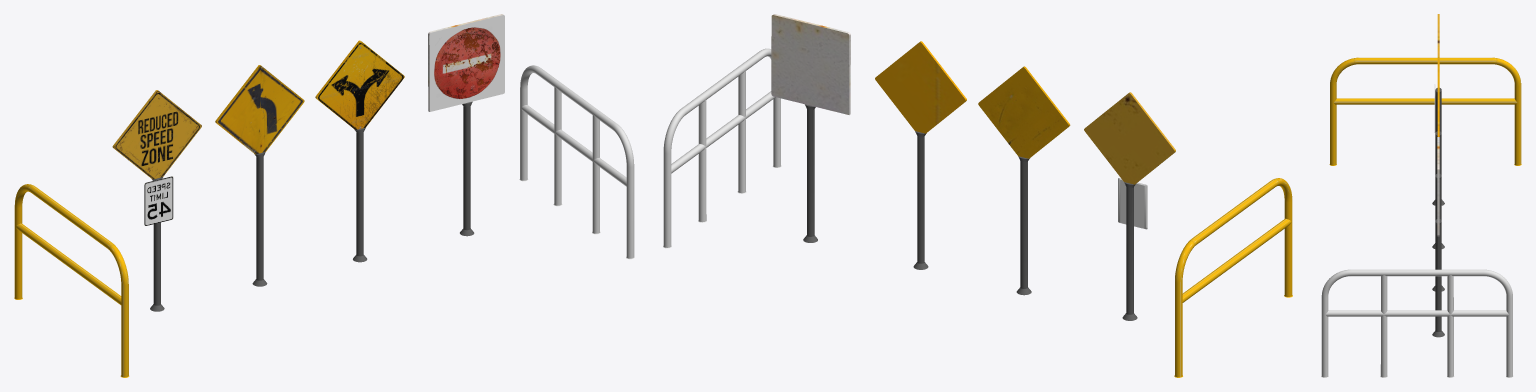
File: road_sign_boards_and_grills.glb
3 views of the same model, side by side, from view 1: azimuth 30°, elevation 25°; view 2: azimuth 150°, elevation 25°; view 3: azimuth 270°, elevation 25° (orthographic). The views are drawn at different scales.
Parts seen in each view (by area): view 1: Cone.003_3, Cone.002_2, Torus.004_5, Cone.001_1, Cone_0, Torus.001_4; view 2: Cone.003_3, Cone.002_2, Cone.001_1, Cone_0, Torus.004_5, Torus.001_4; view 3: Torus.004_5, Torus.001_4, Cone.003_3, Cone.002_2, Cone_0, Cone.001_1.
Boxes of the visible parts, box(x1,y1,x2,y2) form: Cone.003_3: box(428, 14, 504, 236); Cone.002_2: box(112, 90, 201, 311); Torus.004_5: box(519, 65, 634, 259); Cone.001_1: box(315, 40, 404, 262); Cone_0: box(215, 65, 304, 286); Torus.001_4: box(14, 184, 129, 377); Cone.003_3: box(771, 14, 850, 242); Cone.002_2: box(1084, 92, 1175, 320); Cone.001_1: box(875, 41, 966, 269); Cone_0: box(978, 66, 1070, 295); Torus.004_5: box(663, 48, 781, 248); Torus.001_4: box(1174, 178, 1292, 377); Torus.004_5: box(1321, 269, 1513, 377); Torus.001_4: box(1329, 57, 1521, 165); Cone.003_3: box(1432, 137, 1444, 337); Cone.002_2: box(1432, 14, 1444, 205); Cone_0: box(1432, 57, 1444, 248); Cone.001_1: box(1432, 100, 1444, 291).
Bounding box in the file's own units: 2.88 × 1.18 × 1.13.
Materials: 11 (6 with a texture image).
